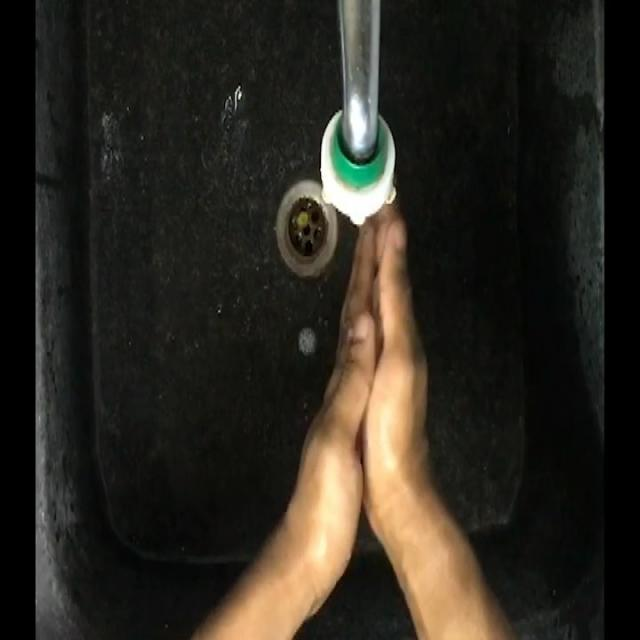step_1: (293, 132, 440, 540)
